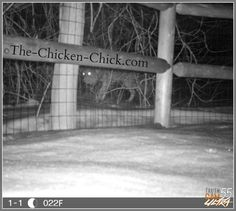chicken: (84, 78, 98, 86)
coyote: (80, 65, 153, 107)
